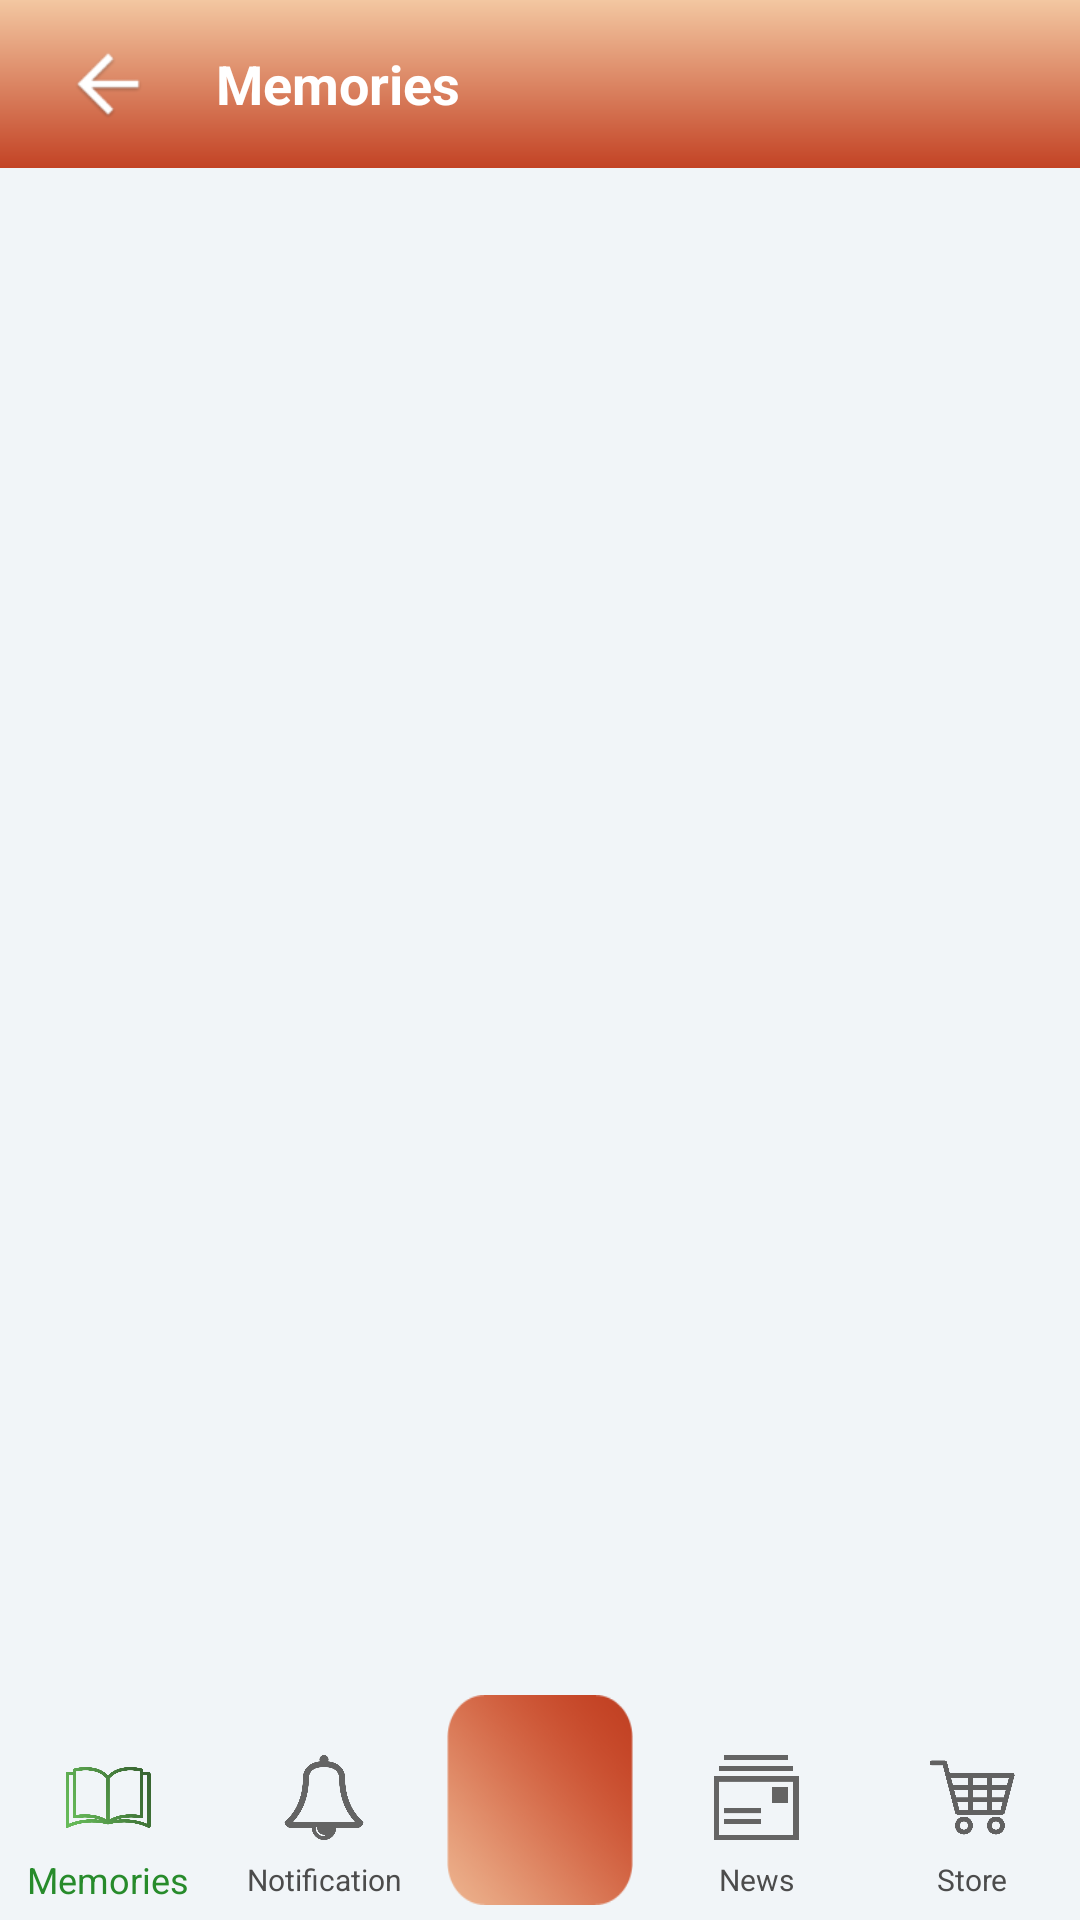

Where icons sit on this 1080×1920 app screen, as (x1, y1, x2, y2):
book two: (66, 1767, 151, 1828)
